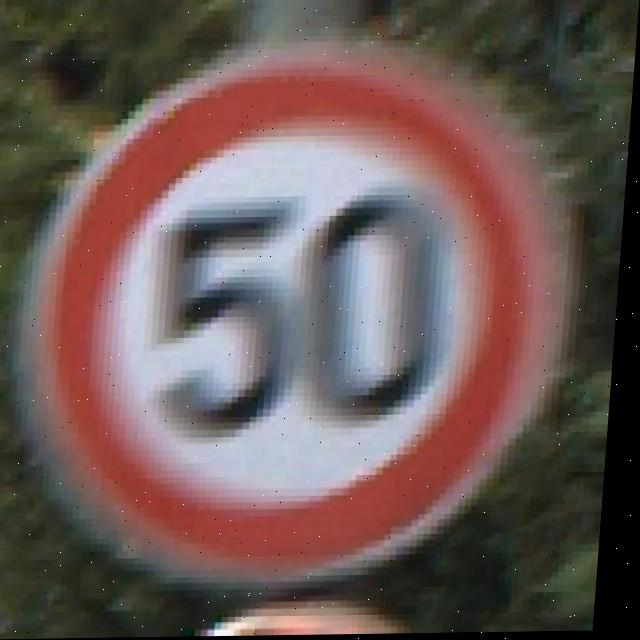Speed limit 50: (8, 39, 589, 591)
